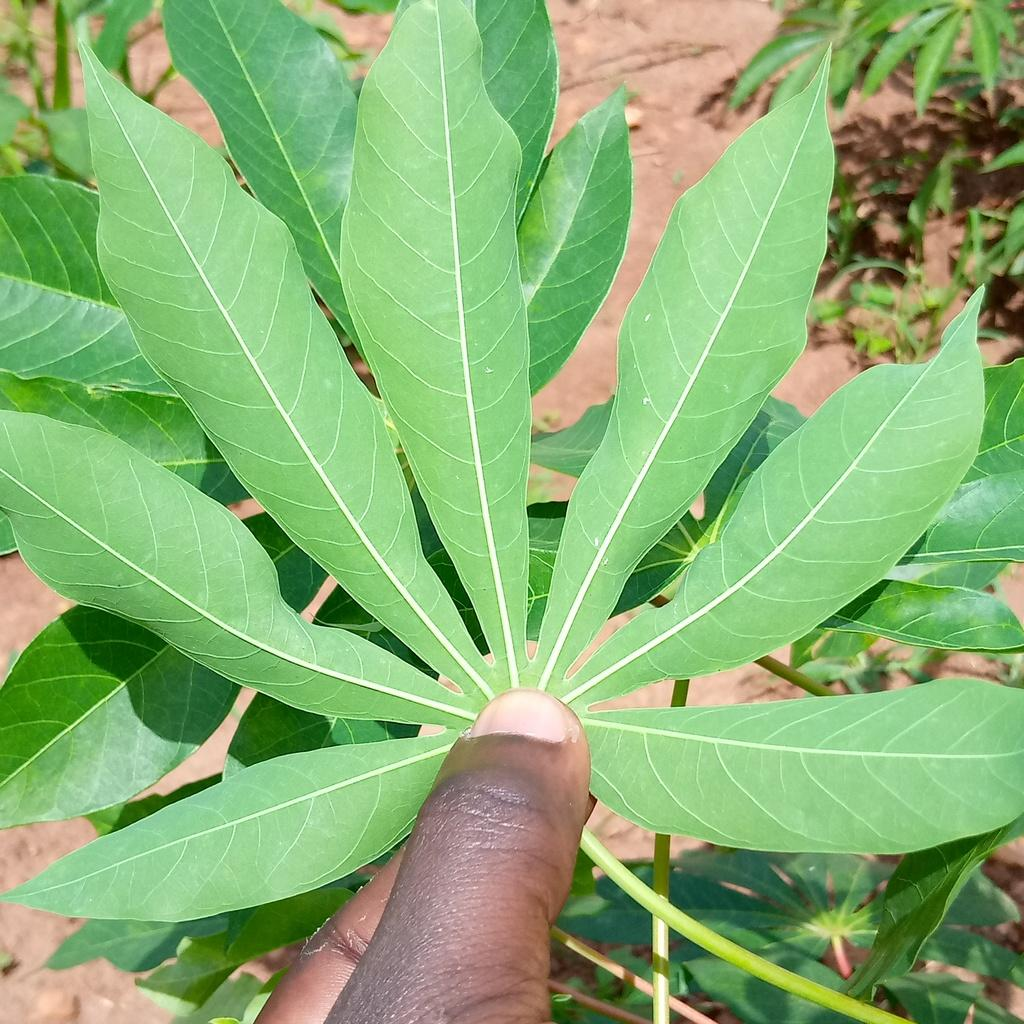adult: (642, 396, 651, 405), (484, 366, 494, 373), (644, 313, 651, 322), (594, 537, 599, 547), (603, 559, 609, 565)
